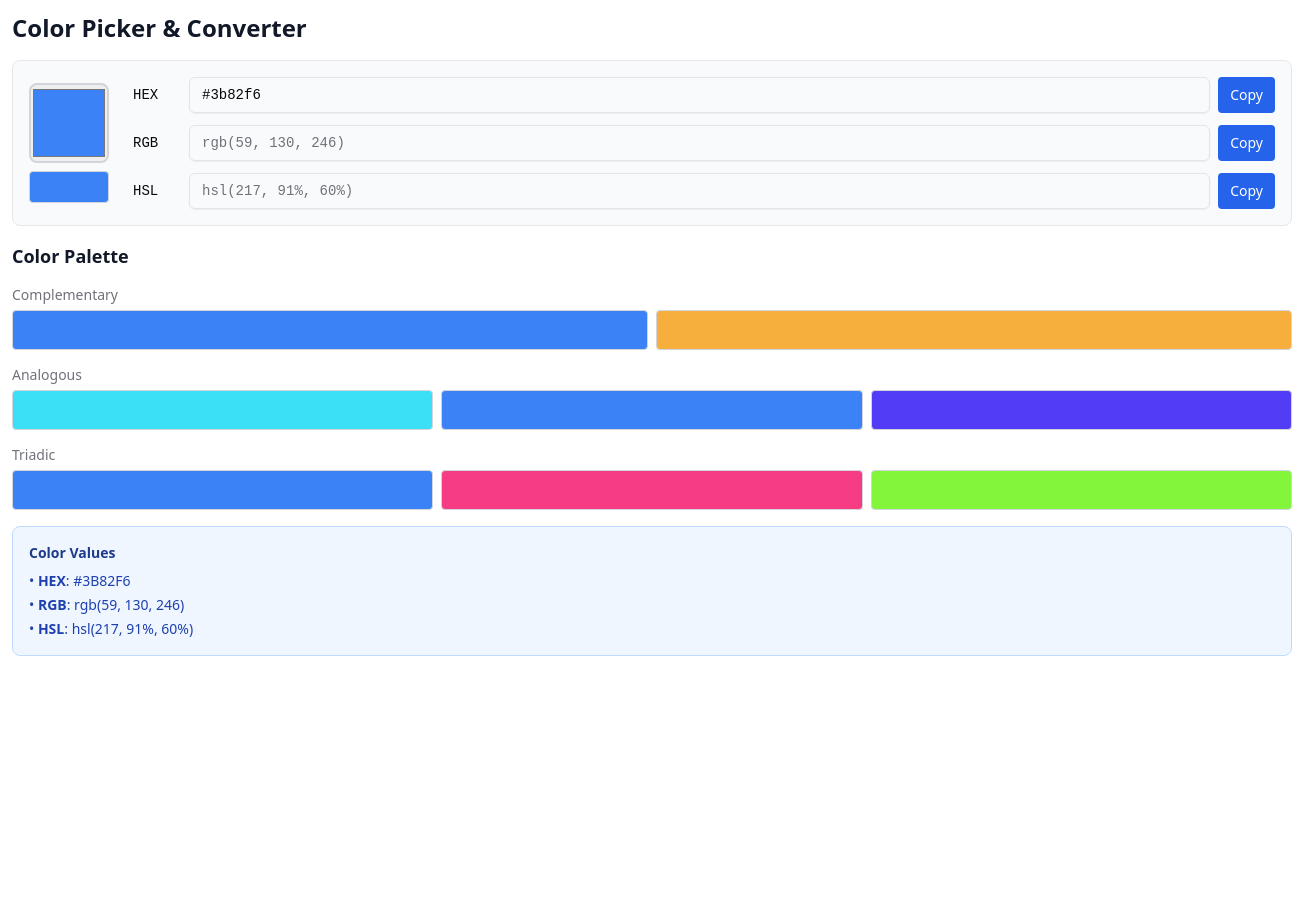
Test: ColorPicker › RGB Input › should update HSL when RGB input changes
The width and height of the screenshot is (1304, 912).
In the field with test id "rgb-input": (700, 143) [189, 125, 1210, 161], type "rgb(0, 0, 255)"
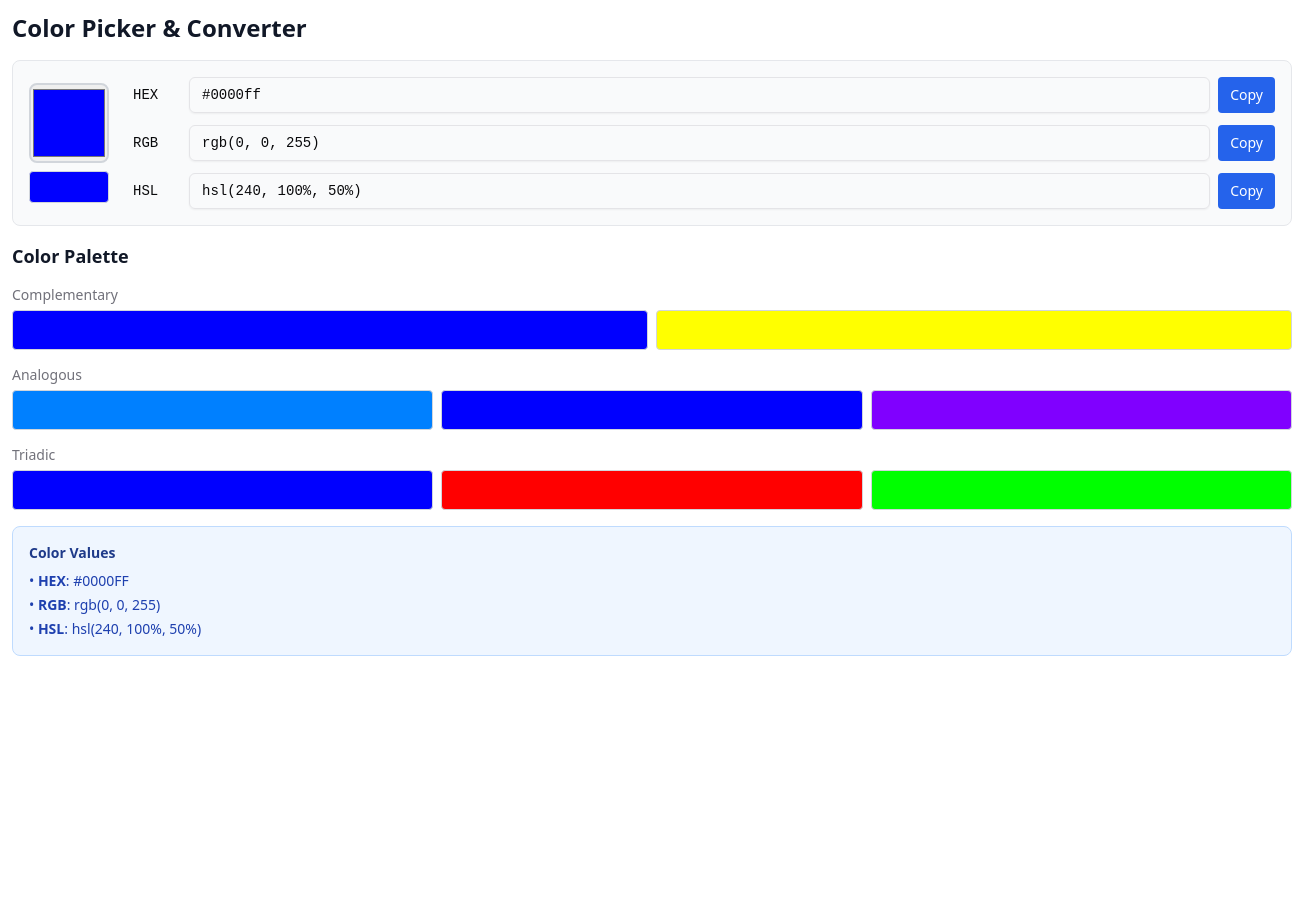
Expected: the field with test id "hsl-input" holds "hsl(240, 100%, 50%)", [189, 173, 1210, 209]
